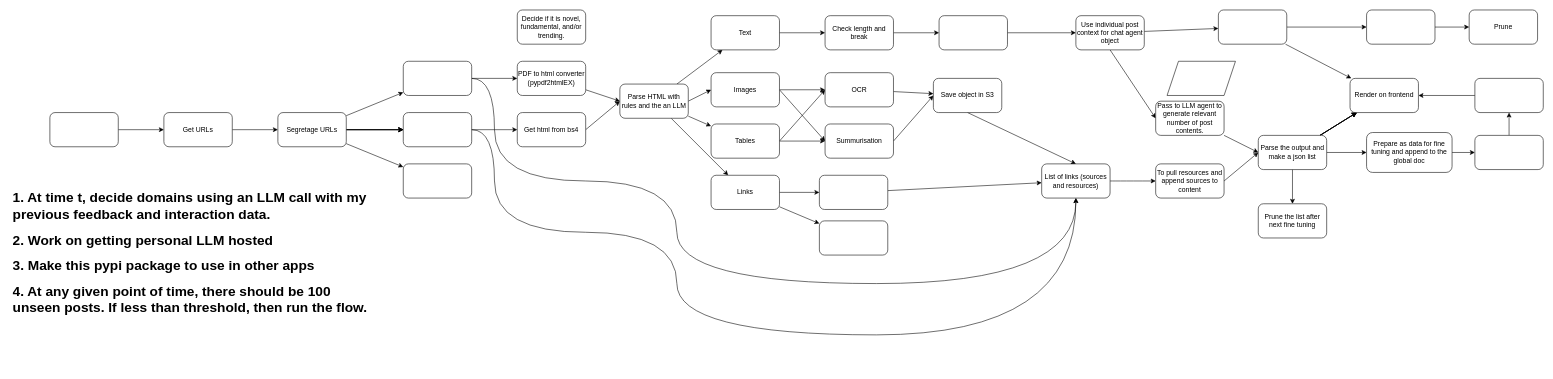
The diagram is 1553 pixels wide and 379 high, and some of its shapes have lost their labels. The centre of each missing label's shape, as x and y in pixels:
Decide domains: (x=83, y=129)
Fine Tune LLM with all new data: (x=1508, y=152)
Irrelevant URLs: (x=437, y=180)
Manage context length with chat summarisation: (x=1252, y=26)
News Article: (x=437, y=129)
Next Website: (x=853, y=237)
PDF link: (x=437, y=78)
Replace all local chat agents with this model: (x=1508, y=95)
Rules for relevant number of posts: (x=1201, y=78)
Save till next fine tuning: (x=1400, y=26)
Summarisation if neccesary: (x=973, y=32)
Videos: (x=853, y=192)
